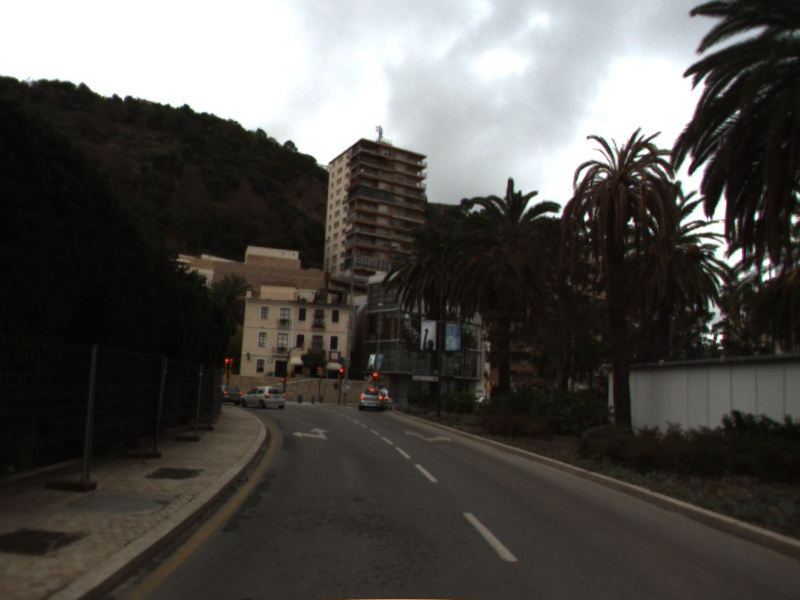STRAIGHT_LEFT: (290, 425, 332, 442)
STRAIGHT_RIGHT: (402, 427, 454, 445)
